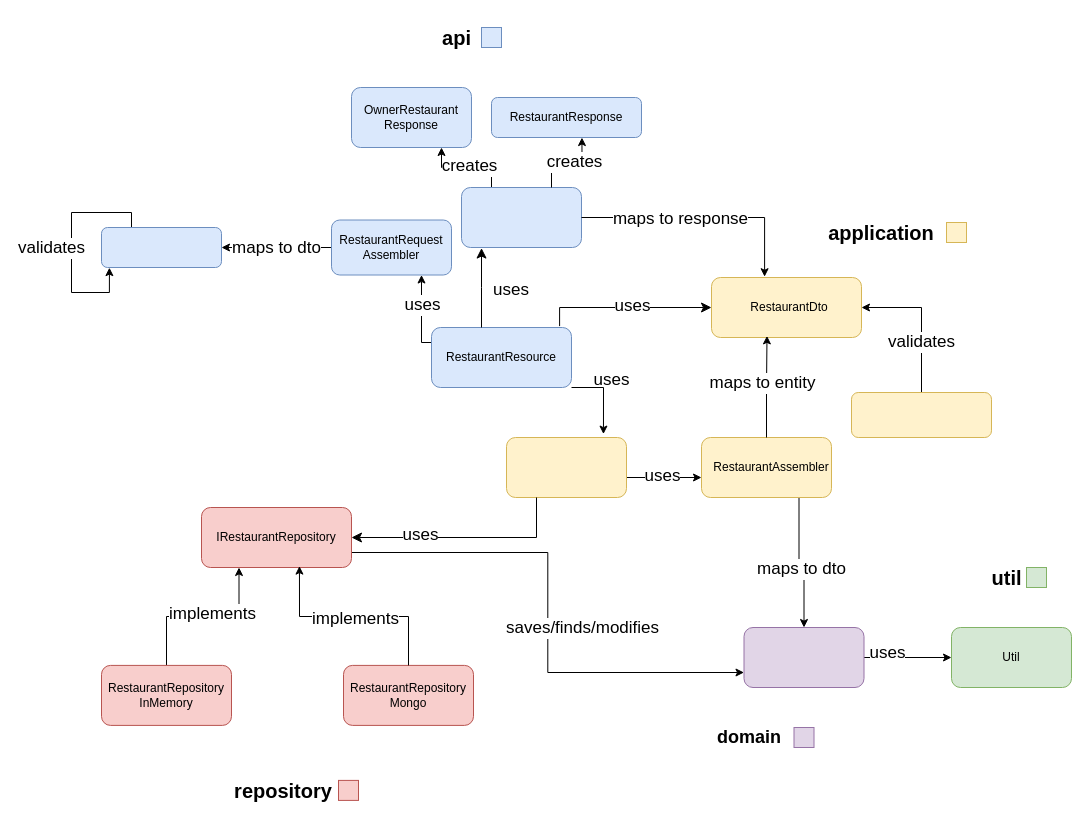
The diagram is 1089 pixels wide and 822 high, and some of its shapes have lost their labels. Here are the shapes that lost their labels. From the top down, the box of each, then its label:
(460, 186, 582, 248): RestaurantResponse Assembler
(100, 226, 222, 268): RestaurantRequest
(850, 392, 992, 438): RestaurantValidator
(506, 436, 626, 498): R estaurantService
(743, 626, 864, 688): Restaurant
